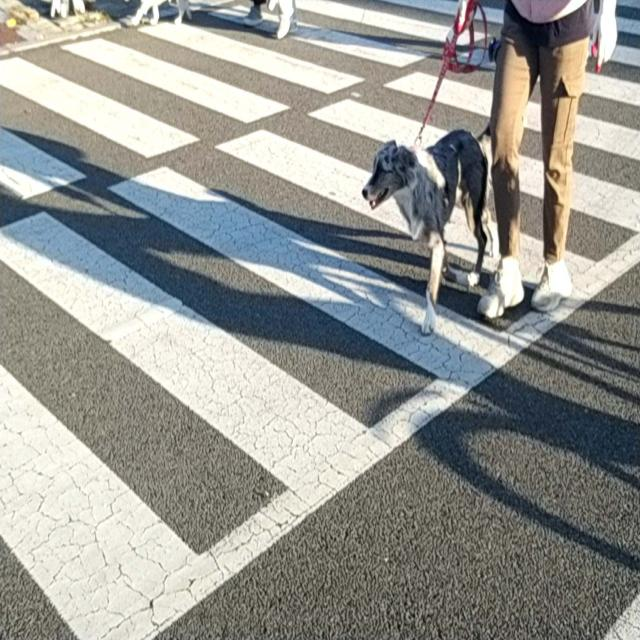Leashed_Dog: (362, 0, 524, 335)
